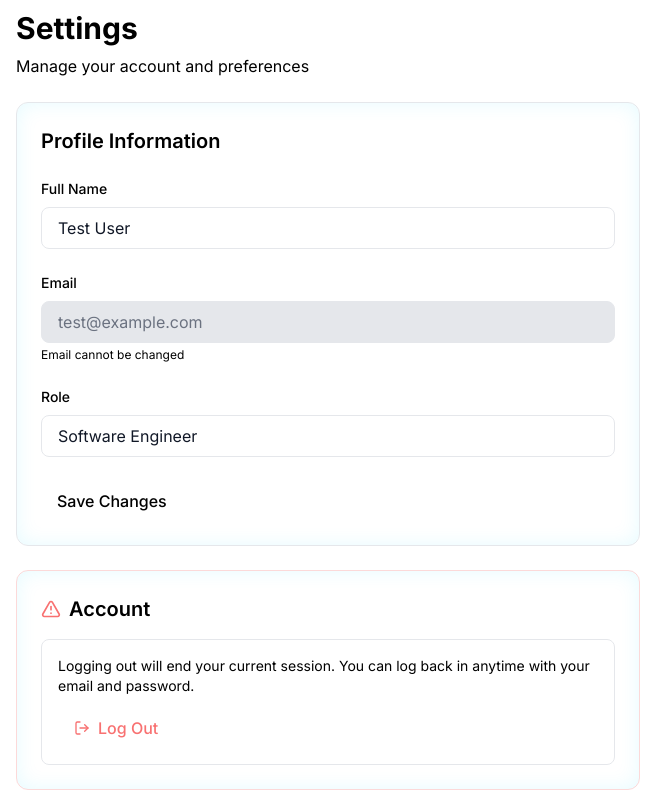
Test: SettingsPage › validates required fields
Clear the field labelled "Full Name": (328, 228) [41,207,615,249]
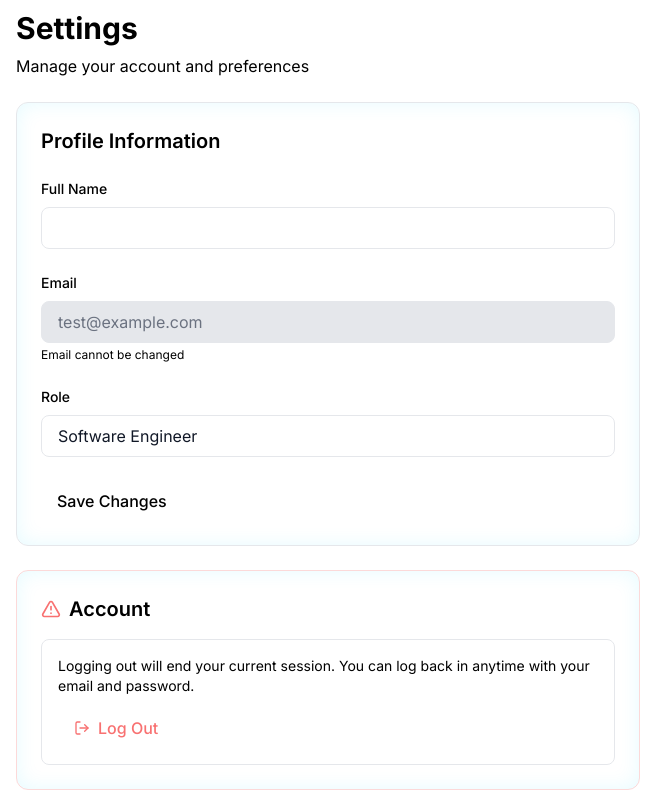
Press Tab
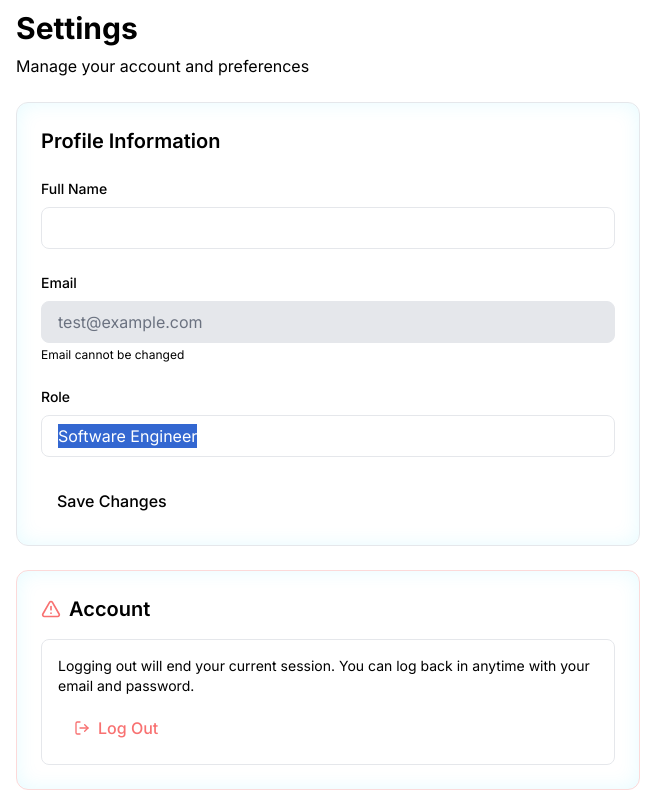
Submit the button labelled "Full Name", box [16,102,640,546]
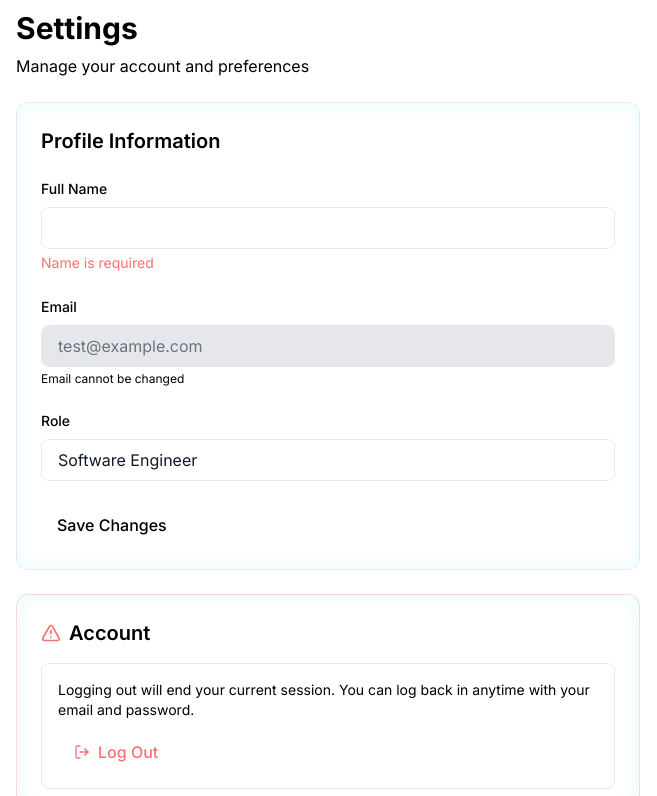
Expected: the text "Name is required" is shown, [41,254,154,271]
